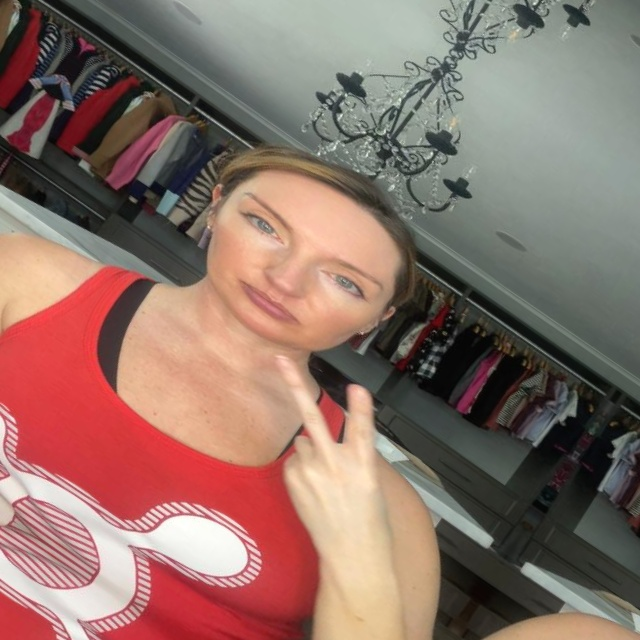Scissors: (211, 337, 456, 567)
